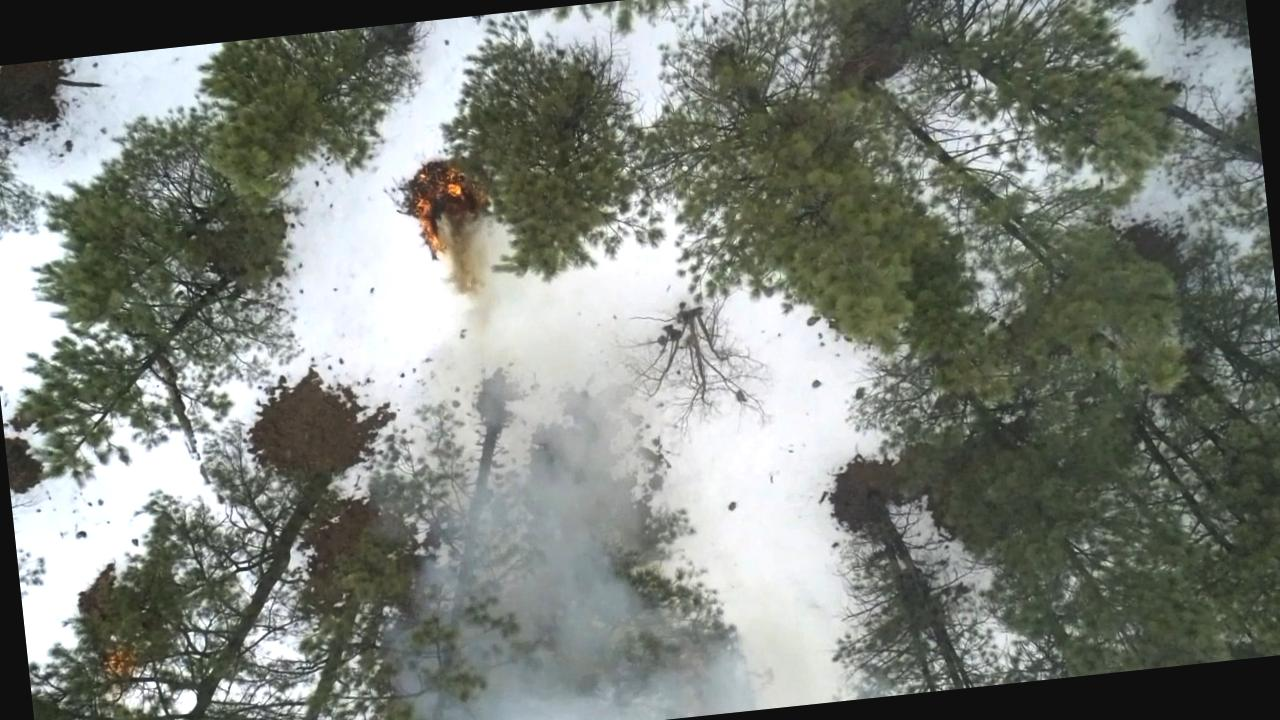fire: (408, 158, 478, 250)
smoke: (370, 458, 724, 720)
